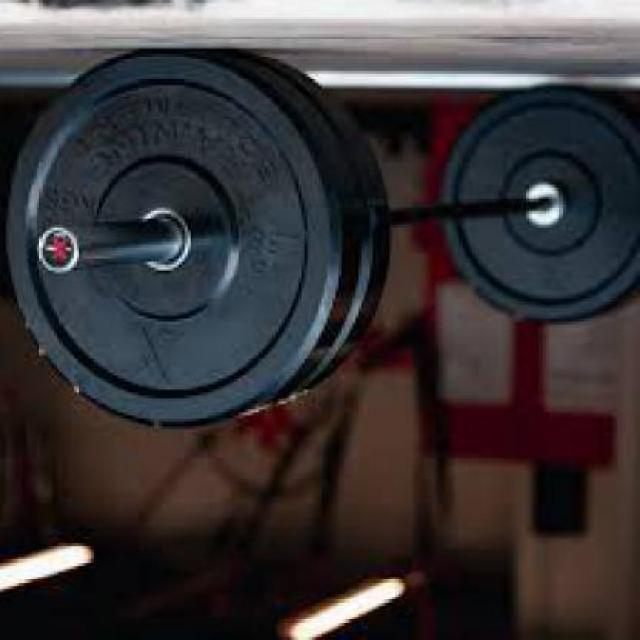Barbell: (32, 210, 88, 290)
